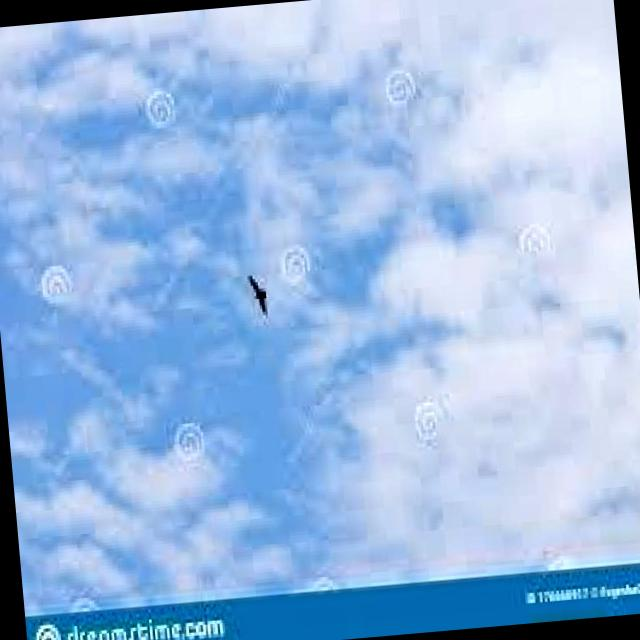bird: (238, 270, 270, 322)
